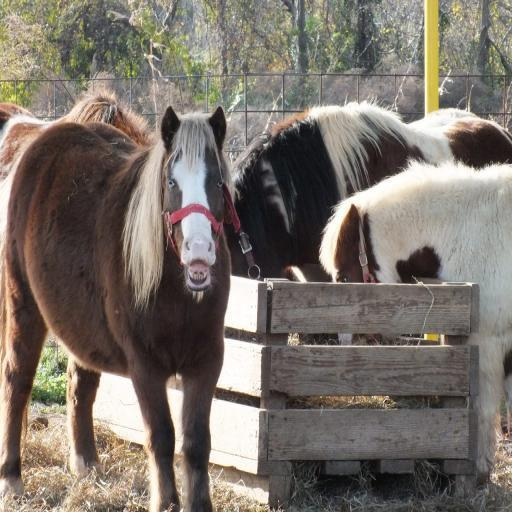horse: (0, 104, 232, 512), (317, 152, 512, 487), (231, 104, 512, 278), (0, 82, 154, 175), (0, 100, 34, 132)
